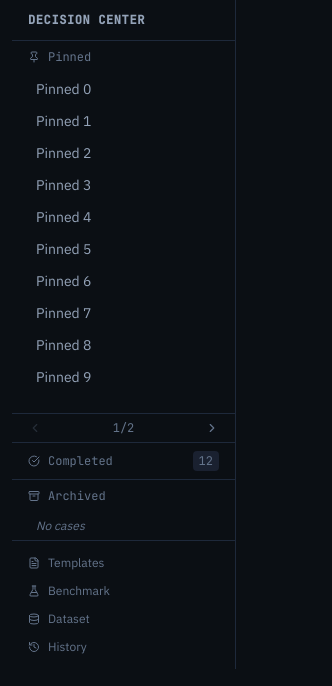
Test: LeftNav › paginates the Pinned section when many cases are pinned
The image size is (332, 686).
expect the text "1/2" is shown: met, box [113,420,134,436]
expect the link "Pinned 0" is shown: met, box [36,80,91,98]
Click the button named "Next Pinned page": x=212, y=428 [205,421,219,435]
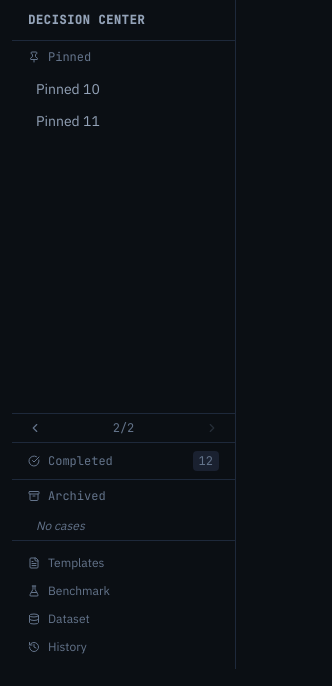
expect the link "Pinned 10" is shown: met, box [36,80,100,98]
